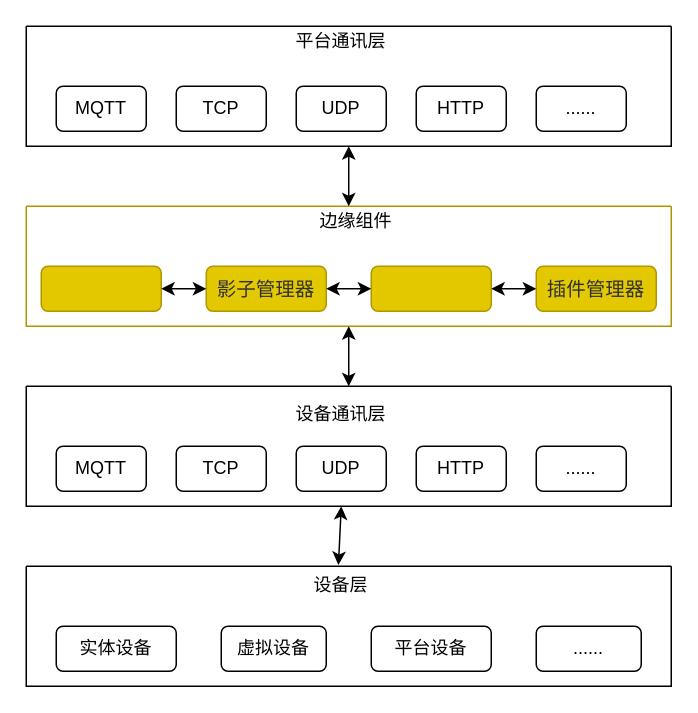
Image size: 698x713. Some labels were removed from this diagram. Here are the shapes that lost their labels. From the top down, the centre of each, then its label:
At point (100, 288): "消息分发器".
At point (430, 288): "设备管理器".
